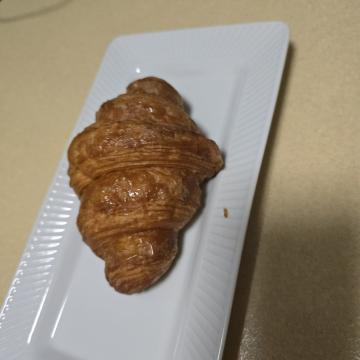croissant: (65, 126, 304, 304)
